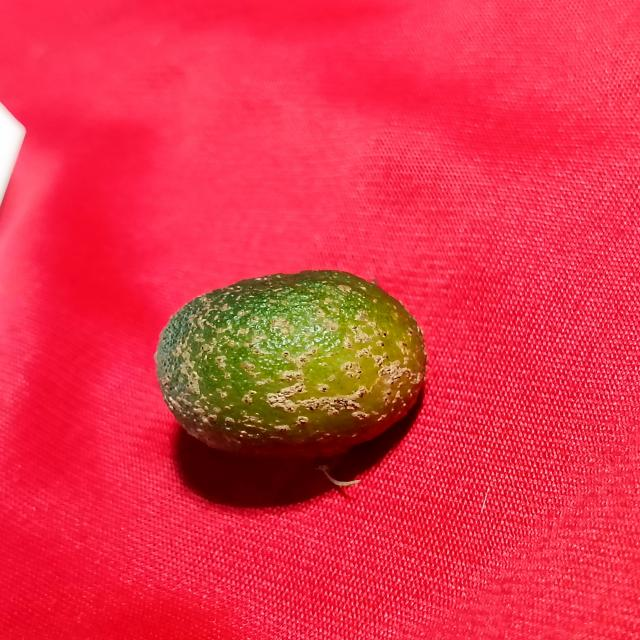scab: (151, 260, 418, 446)
